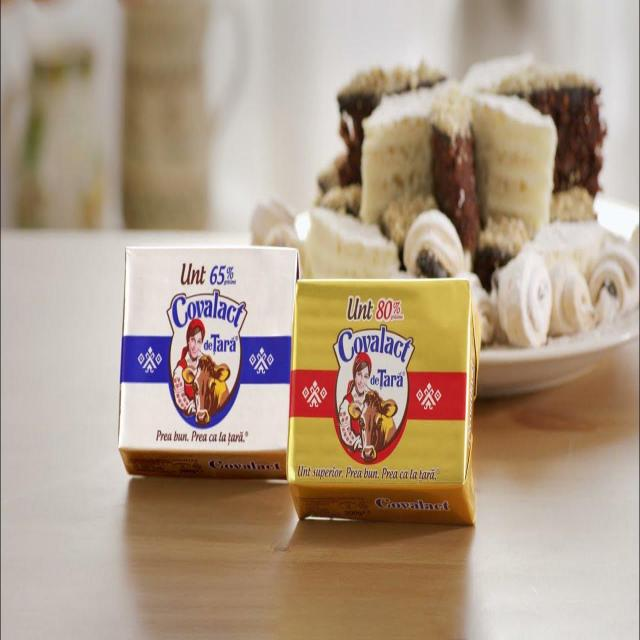butter: (288, 278, 481, 526), (121, 242, 299, 470)
